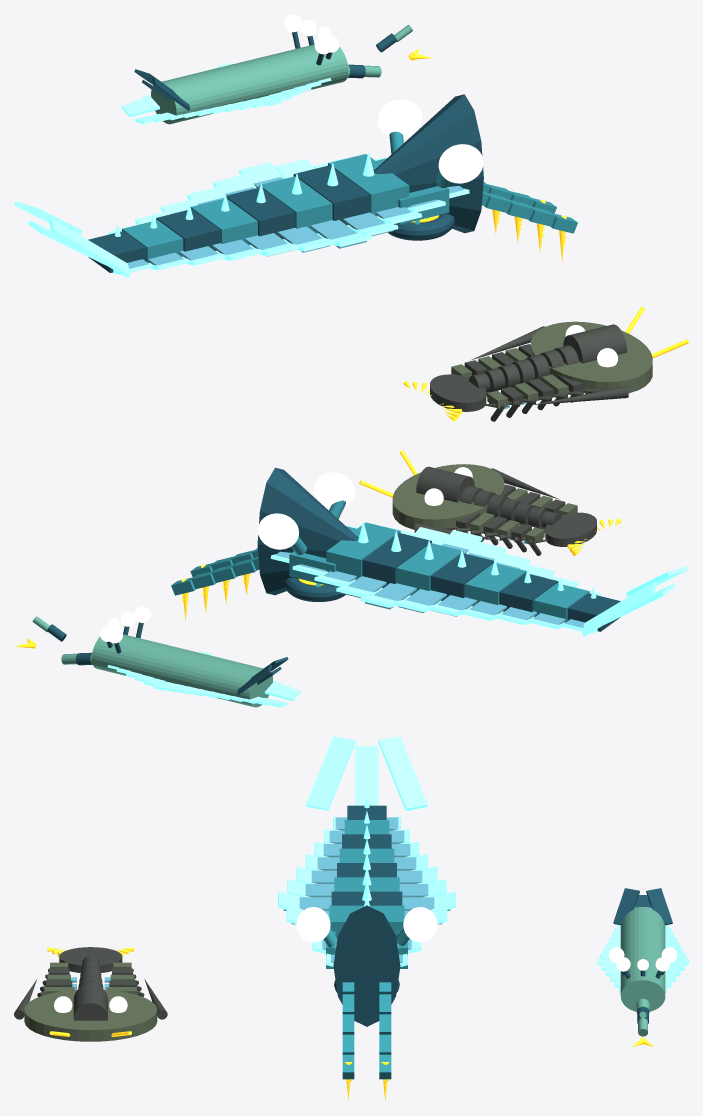
The model's file is cambrian_creatures_blender.glb.
The picture shows the model from 3 angles, top to bottom: view 1: azimuth 30°, elevation 25°; view 2: azimuth 150°, elevation 25°; view 3: azimuth 270°, elevation 25°; orthographic projection. The views are drawn at different scales.
Visible parts, largest first — view 1: Cylinder.002, Anom_HeadShield, Cylinder.013, Cube.013, Cube.014, Cube.015, Cube.016, Cube.017, Cylinder.024, Cube.018, Cylinder.014, Sphere (+8 smaller); view 2: Cylinder.002, Anom_HeadShield, Cylinder.013, Cube.013, Cube.014, Cube.015, Cube.016, Cube.017, Cylinder.024, Cube.018, Cylinder.014, Sphere.001 (+12 smaller); view 3: Anom_HeadShield, Cylinder.013, Cylinder.002, Cube.067, Cube.065, Cube.066, Cylinder.014, Cube.013, Cylinder.024, Sphere, Cube.014, Sphere.001 (+6 smaller).
Part boxes in pixels (x1,y1,x2,y2): Cylinder.002: (151, 44, 348, 124); Anom_HeadShield: (373, 94, 483, 233); Cylinder.013: (530, 321, 652, 393); Cube.013: (328, 154, 409, 216); Cube.014: (293, 165, 369, 225); Cube.015: (259, 176, 332, 233); Cube.016: (226, 187, 295, 239); Cube.017: (190, 198, 257, 245); Cylinder.024: (430, 374, 486, 411); Cube.018: (156, 209, 220, 251); Cylinder.014: (563, 324, 626, 363); Sphere: (438, 144, 483, 183); Cylinder.002: (91, 634, 272, 707); Anom_HeadShield: (257, 467, 358, 595); Cylinder.013: (392, 464, 504, 530); Cube.013: (326, 522, 400, 579); Cube.014: (362, 533, 431, 587); Cube.015: (396, 543, 463, 595); Cube.016: (430, 553, 493, 600); Cube.017: (465, 563, 526, 606); Cylinder.024: (545, 512, 596, 546); Cube.018: (499, 573, 558, 611); Cylinder.014: (416, 466, 474, 502); Sphere.001: (258, 513, 298, 549); Anom_HeadShield: (333, 905, 400, 1026); Cylinder.013: (24, 989, 157, 1041); Cylinder.002: (620, 907, 665, 1011); Cube.067: (378, 736, 427, 810); Cube.065: (306, 736, 355, 810); Cube.066: (355, 746, 378, 805); Cylinder.014: (73, 984, 107, 1020); Cube.013: (329, 905, 404, 938); Cylinder.024: (59, 947, 122, 972); Sphere: (296, 907, 330, 942); Cube.014: (331, 891, 402, 905); Sphere.001: (403, 907, 437, 942).
Bounding box in the file's own units: 8.47 × 2.68 × 10.27.
